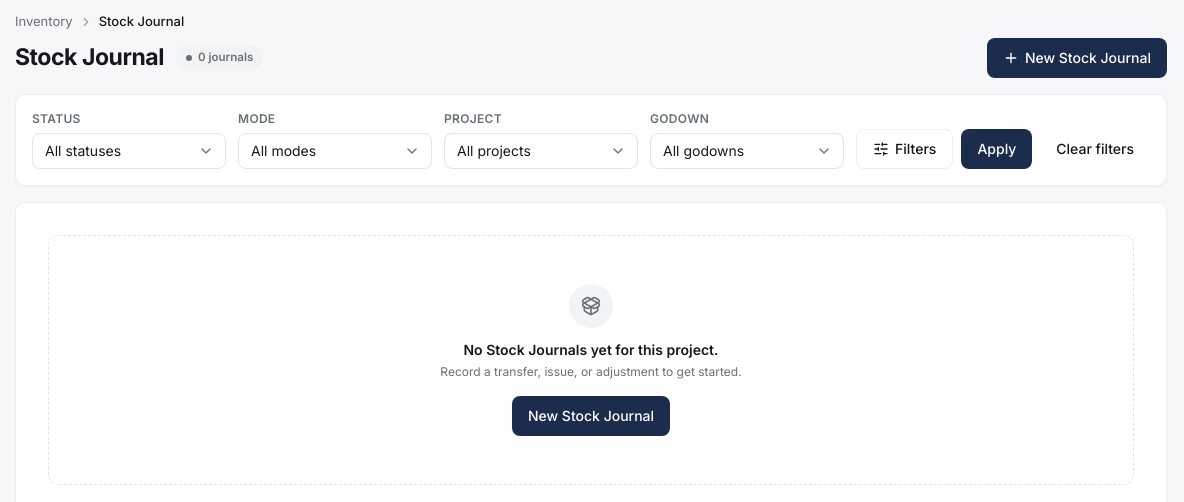
Scenario: StockJournalListScreen (spec §4.A/§6) › shows the first-use empty state (no filters) vs filtered empty
Expected: the element with test id "sj-empty-firstuse" shows "No Stock Journals yet", [464,340,718,358]
Select "Posted" in the dropdown with test id "sj-f-status" at (129, 150), box [32,132,226,168]
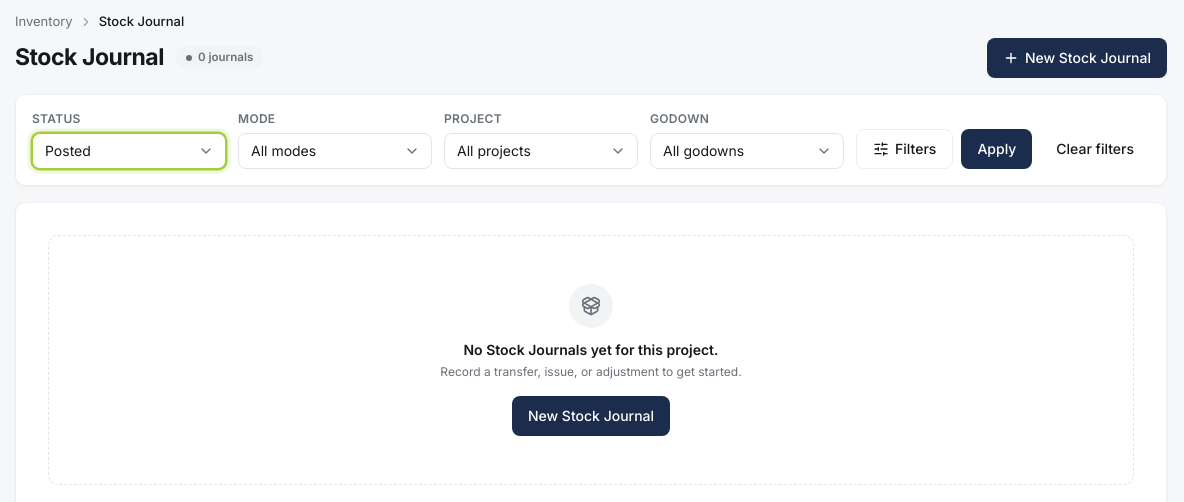
Click the button with test id "sj-f-apply".
click(997, 148)  # box [961,128,1032,168]
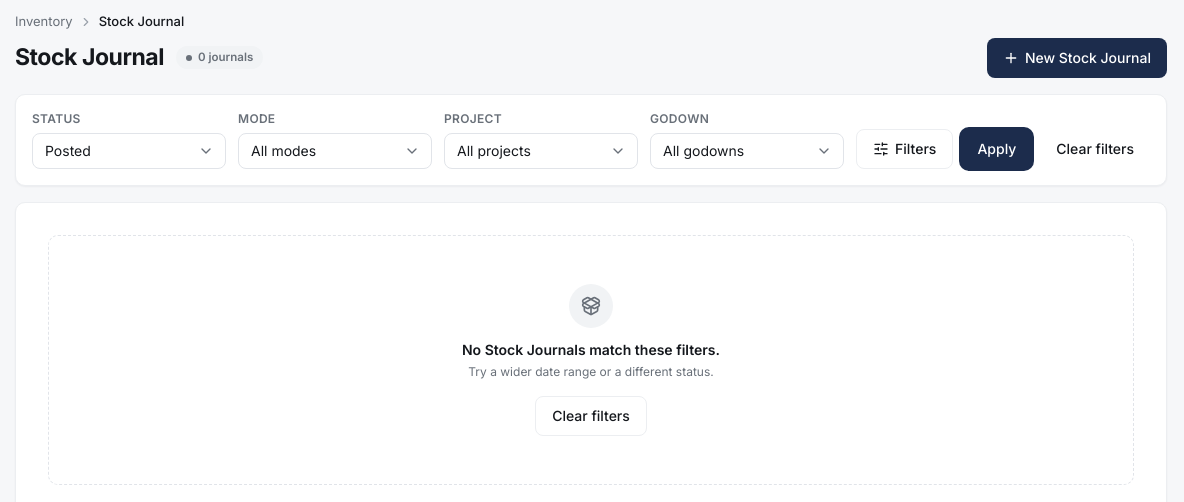
Now the element with test id "sj-empty-filtered" shows "No Stock Journals match", box [462,340,720,358]
